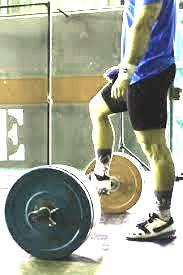Barbell: (22, 203, 59, 227)
